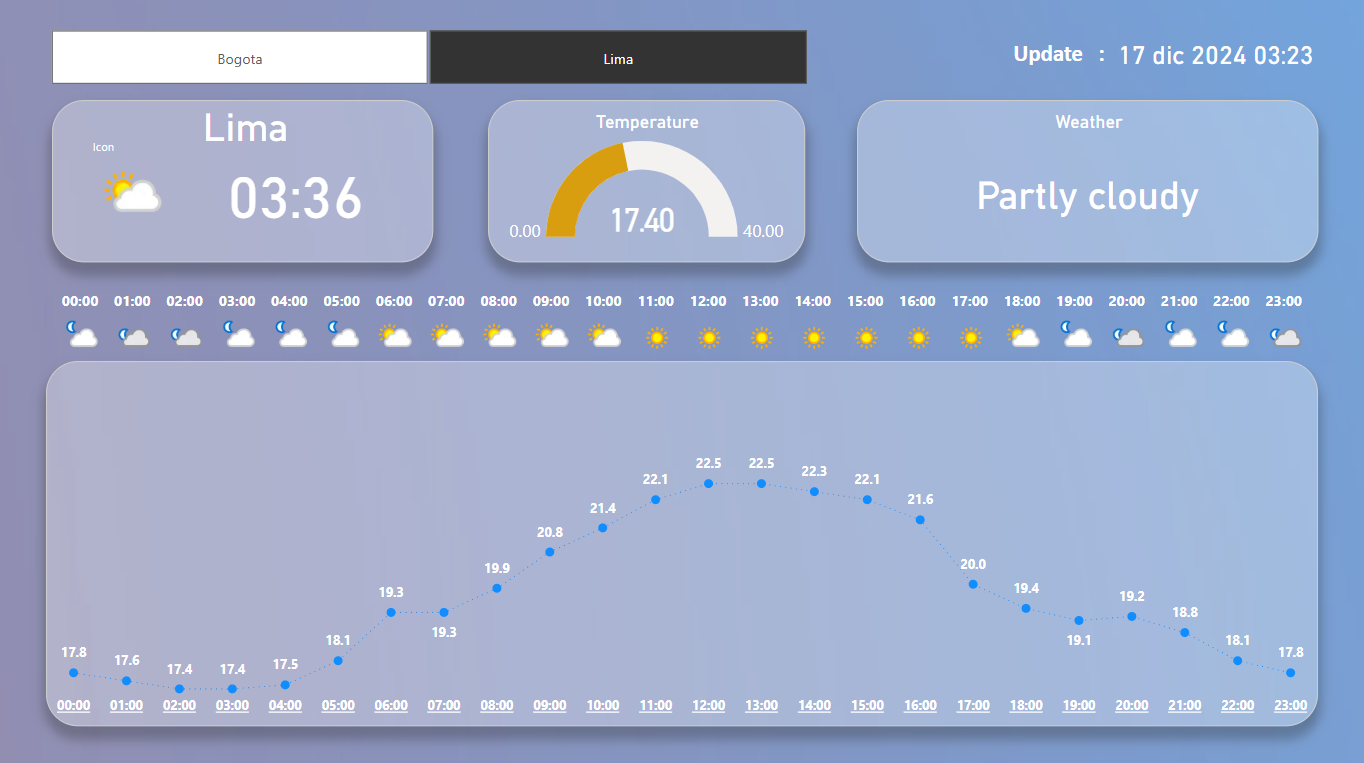

The page's visual inventory and layout, read from the dashboard file:
{"tool":"powerbi","page":{"name":"Página 1","canvas":[1280,720],"ordinal":0},"visuals":[{"type":"textbox","box":[50,93.4,356.7,152.2],"z":0},{"type":"lineChart","title":"Celsius","fields":{"Y":["Sum(history.forecast.forecastday.hour.temp_c)"],"Category":["history.Range_Time"]},"box":[44.4,337.8,1191.1,342.2],"z":1000},{"type":"slicer","fields":{"Values":["history.location.name"]},"box":[23.3,21.1,756.7,64.4],"z":2000},{"type":"card","fields":{"Values":["history.timeUpdate"]},"box":[997.8,26.7,282.2,48.9],"z":3000},{"type":"card","fields":{"Values":["history.NowWhather"]},"box":[190,143.3,175.6,70],"z":4000},{"type":"card","title":"Weather","fields":{"Values":["history.nameWhaterHourNow"]},"box":[803.3,93.4,432.2,152.2],"z":6000},{"type":"pivotTable","fields":{"Values":["history.iconHourNow"]},"box":[61.1,124.4,156.7,114.4],"z":7000},{"type":"card","fields":{"Values":["Min(history.location.region)"]},"box":[61.1,86.7,340,57.8],"z":8000},{"type":"pivotTable","fields":{"Values":["Min(history.forecast.forecastday.hour.condition.icon)"],"Columns":["history.Range_Time"]},"box":[33.3,267.8,1215.6,73.3],"z":9000},{"type":"gauge","title":"Temperature","fields":{"Y":["history.celciusWhaterHourNow"]},"box":[457.8,93.4,296.7,152.2],"z":10000},{"type":"textbox","box":[944.4,32.2,121.1,36.7],"z":11000}]}

Visuals, with their boxes in screenshot pixels (x1, y1, x2, y2), scaled from the page's 1280x720 canvas onto the 1364x763 screenshot:
textbox: {"left": 53, "top": 99, "right": 433, "bottom": 260}
"Celsius" lineChart: {"left": 47, "top": 358, "right": 1317, "bottom": 721}
slicer - history.location.name: {"left": 25, "top": 22, "right": 831, "bottom": 91}
card - history.timeUpdate: {"left": 1063, "top": 28, "right": 1363, "bottom": 80}
card - history.NowWhather: {"left": 202, "top": 152, "right": 390, "bottom": 226}
"Weather" card: {"left": 856, "top": 99, "right": 1317, "bottom": 260}
pivotTable - history.iconHourNow: {"left": 65, "top": 132, "right": 232, "bottom": 253}
card - Min(history.location.region): {"left": 65, "top": 92, "right": 427, "bottom": 153}
pivotTable - Min(history.forecast.forecastday.hour.condition.icon) x history.Range_Time: {"left": 35, "top": 284, "right": 1331, "bottom": 361}
"Temperature" gauge: {"left": 488, "top": 99, "right": 804, "bottom": 260}
textbox: {"left": 1006, "top": 34, "right": 1135, "bottom": 73}
